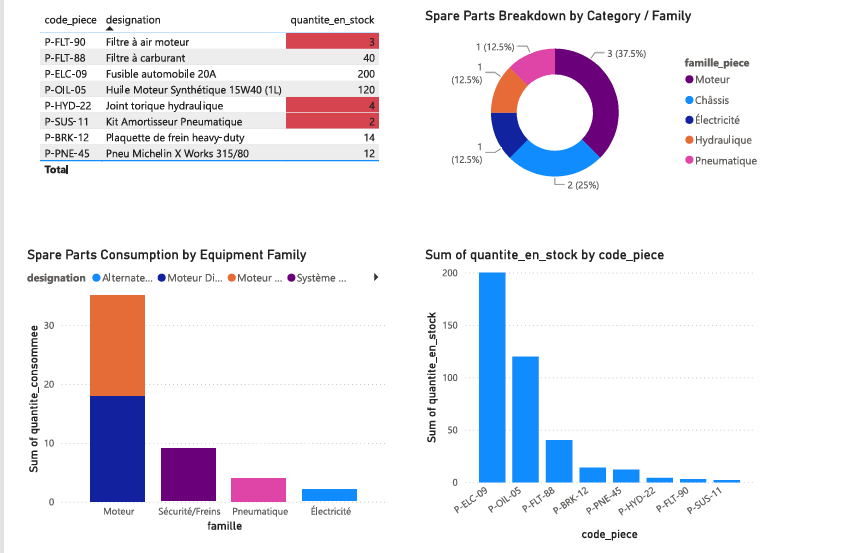

The dashboard page shown, as its layout file describes it:
{"tool":"powerbi","page":{"name":"Estimation","canvas":[1280,720],"ordinal":2},"visuals":[{"type":"tableEx","fields":{"Values":["gmao_camions dim_pieces.code_piece","gmao_camions dim_pieces.designation","gmao_camions dim_pieces.quantite_en_stock"]},"box":[15.7,45.7,457.1,235.7],"z":0},{"type":"columnChart","title":"Spare Parts Consumption by Equipment Family","fields":{"Category":["gmao_camions dim_equipements.famille"],"Series":["gmao_camions dim_equipements.designation"],"Y":["Sum(gmao_camions fact_consommation.quantite_consommee)"]},"box":[0,345.7,462.9,364.3],"z":1000},{"type":"clusteredColumnChart","fields":{"Category":["gmao_camions dim_pieces.code_piece"],"Y":["Sum(gmao_camions dim_pieces.quantite_en_stock)"]},"box":[500,345.7,422.9,374.3],"z":2000},{"type":"donutChart","title":"Spare Parts Breakdown by Category / Family","fields":{"Category":["gmao_camions dim_pieces.famille_piece"],"Y":["CountNonNull(gmao_camions dim_pieces.code_piece)"]},"box":[500,45.7,437.1,245.7],"z":3000}]}

Visuals, with their boxes on the page's 1280x720 design canvas (x1, y1, x2, y2). These are canvas units, not pixel positions in the 867x553 screenshot, which may show the page scaled, cropped or inside an application window:
tableEx - gmao_camions dim_pieces.code_piece x gmao_camions dim_pieces.designation: 16, 46, 473, 281
"Spare Parts Consumption by Equipment Family" columnChart: 0, 346, 463, 710
clusteredColumnChart - gmao_camions dim_pieces.code_piece x Sum(gmao_camions dim_pieces.quantite_en_stock): 500, 346, 923, 720
"Spare Parts Breakdown by Category / Family" donutChart: 500, 46, 937, 291
